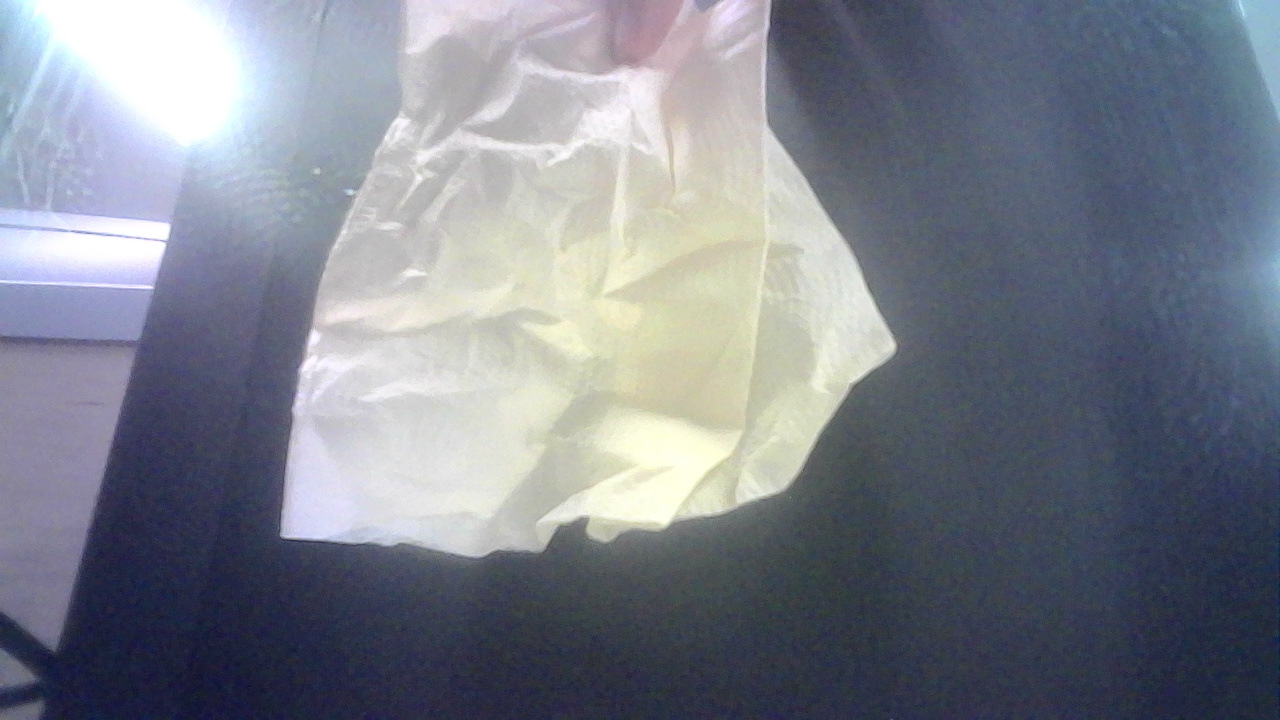Paper_Recycling: (222, 14, 738, 448)
